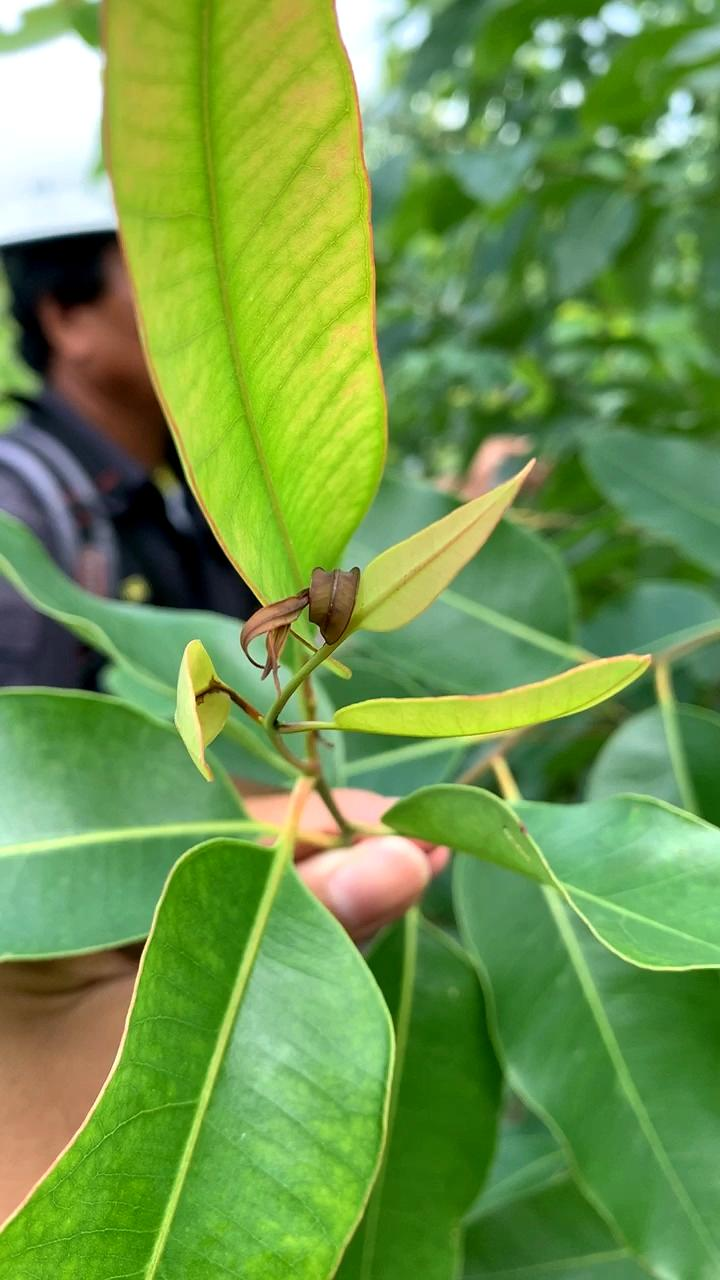Helopeltis-Withered Sprout: (245, 566, 363, 673)
